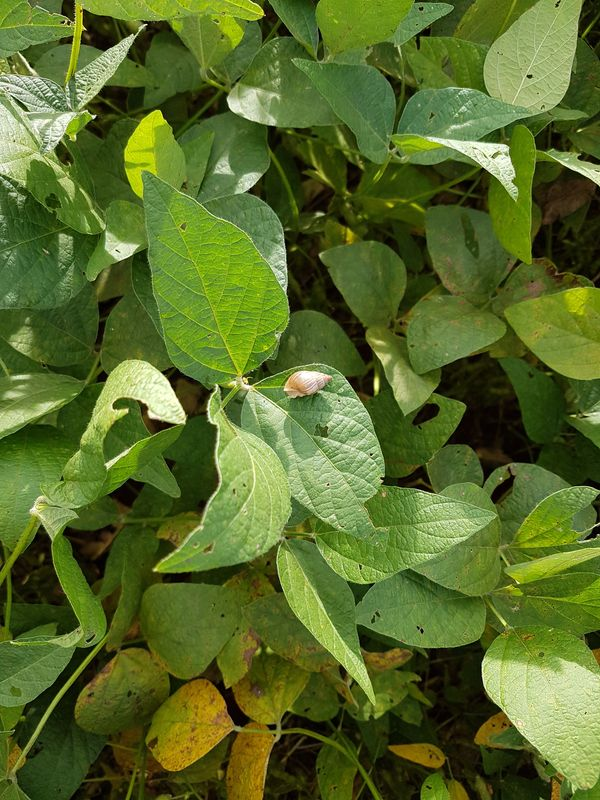Euschistus_heros_adulto: (243, 677, 269, 704)
Gastropoda: (277, 364, 339, 406)
